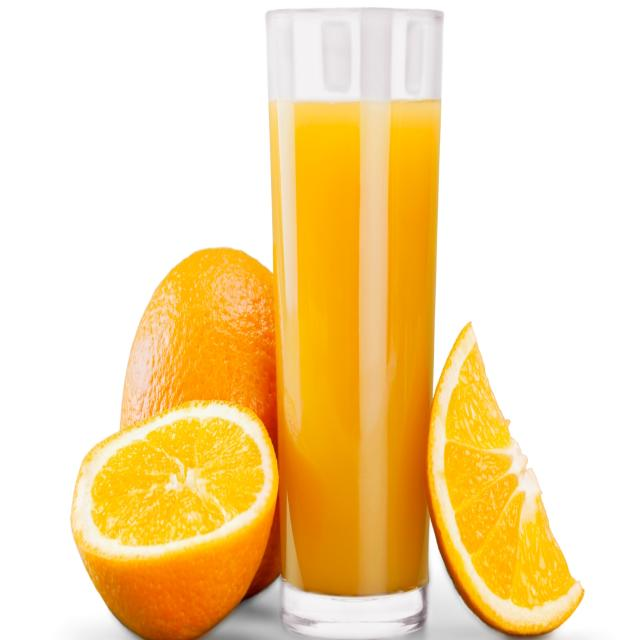orange: (425, 316, 586, 638), (71, 394, 277, 640), (118, 245, 275, 437)
